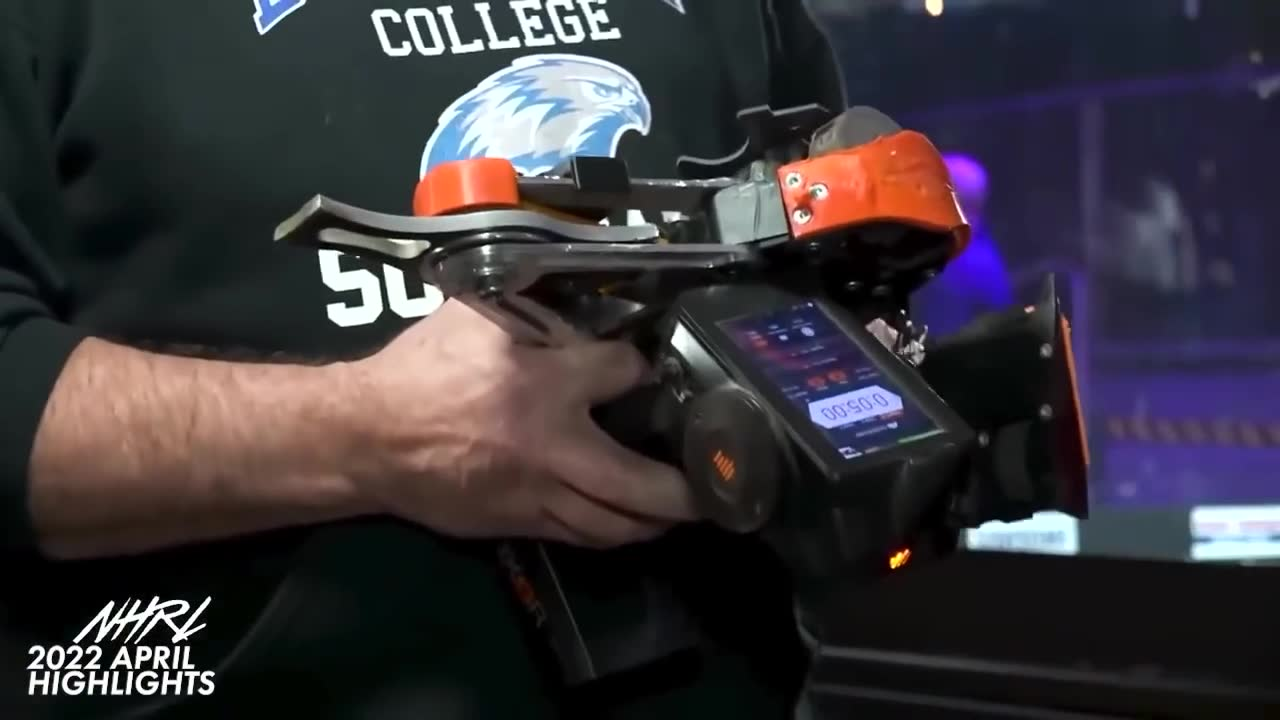combatbot: (274, 102, 969, 349)
